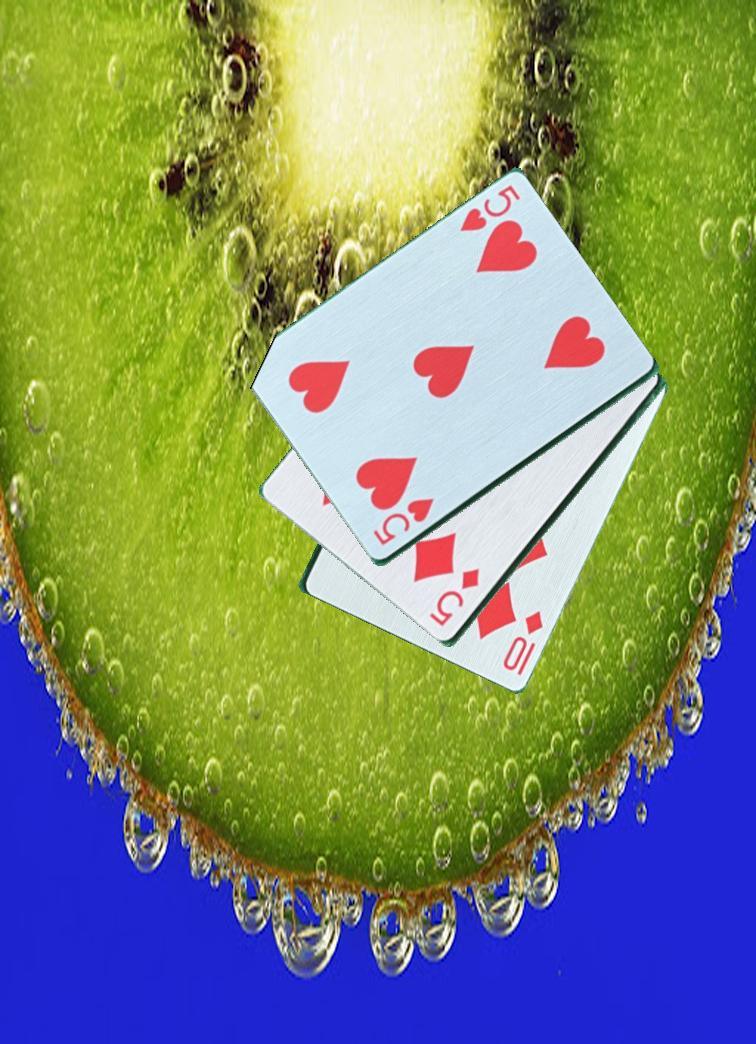5d: (428, 565, 483, 631)
5h: (455, 182, 523, 237), (369, 495, 438, 549)
td: (499, 607, 547, 675)
